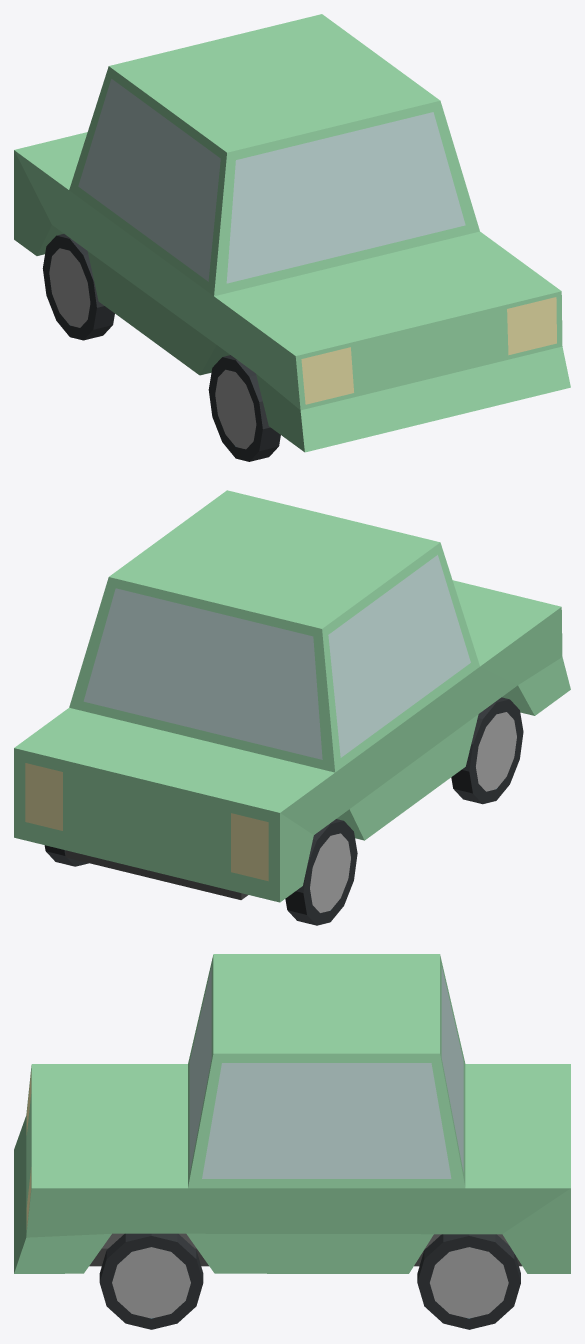
Rendered from Carro02.FBX.
3 renders of one model, top to bottom at view 1: azimuth 30°, elevation 25°; view 2: azimuth 150°, elevation 25°; view 3: azimuth 270°, elevation 25°, orthographic. The views are drawn at different scales.
Parts seen in each view (by area): view 1: Carro002; view 2: Carro002; view 3: Carro002.
Part boxes in pixels (bbox=[...]): Carro002: bbox=[14, 14, 570, 461]; Carro002: bbox=[14, 490, 570, 925]; Carro002: bbox=[14, 954, 570, 1329].
Bounding box in the file's own units: 59.27 × 58.85 × 112.
